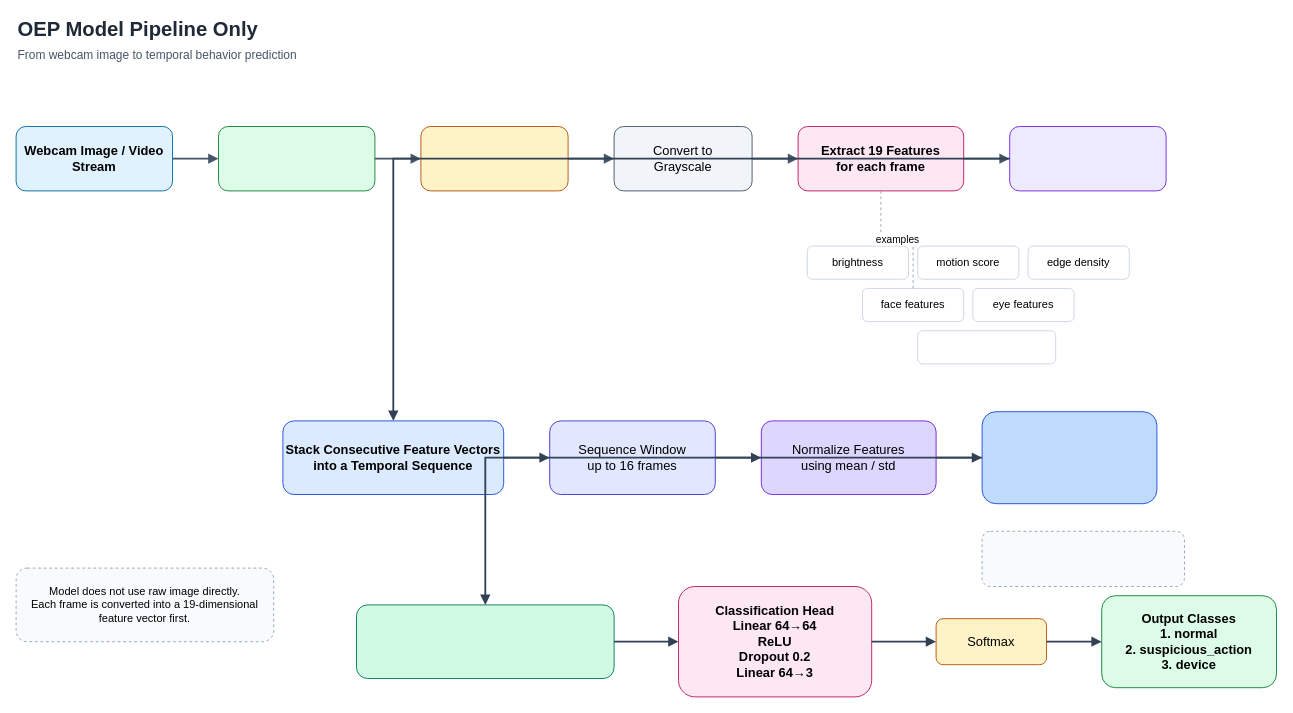
Some shapes in this 1293 by 713 pixel diagram are drawn without their labels. Here are the shapes that lost their labels. From the top down, the centre of each, then its label:
At point (296, 158): "Take Consecutive Frames".
At point (494, 158): "Resize Frame to fixed width".
At point (1087, 158): "Feature Vector (19 dimensions)".
At point (986, 347): "upper-body features".
At point (1069, 457): "LSTM input size = 19 hidden size = 64".
At point (1082, 558): "The LSTM learns temporal behavior, not just single-frame appearance.".
At point (485, 641): "Last Hidden State (64-dim summary of the sequence)".
